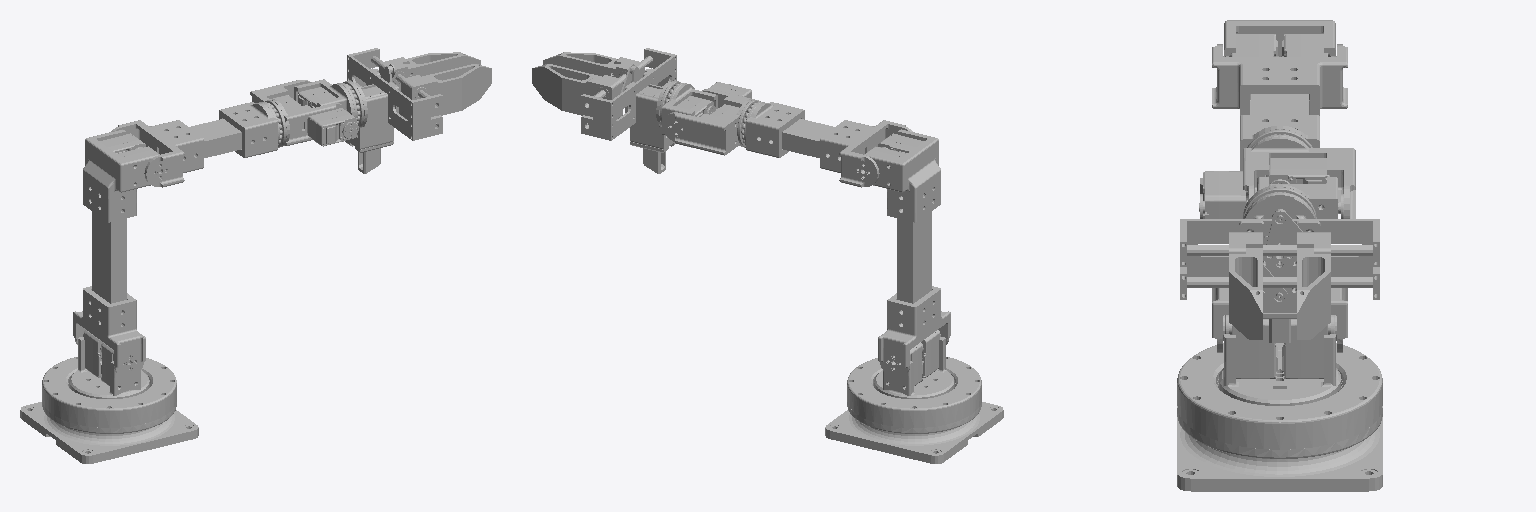
The robot description file, URDF, robot "Athena.SLDASM":
<?xml version="1.0" encoding="utf-8"?>
<!-- This URDF was automatically created by SolidWorks to URDF Exporter! Originally created by [author] ([email redacted]) 
     Commit Version: 1.6.0-1-g15f4949  Build Version: 1.6.7594.29634
     For more information, please see http://wiki.ros.org/sw_urdf_exporter -->
<robot
  name="Athena.SLDASM">
  <link
    name="link0">
    <inertial>
      <origin
        xyz="0.00084199 6.0516E-06 0.027312"
        rpy="0 0 0" />
      <mass
        value="1.07" />
      <inertia
        ixx="0.0017764"
        ixy="1.0653E-09"
        ixz="3.2188E-06"
        iyy="0.0017612"
        iyz="-3.7721E-10"
        izz="0.0034343" />
    </inertial>
    <visual>
      <origin
        xyz="0 0 0"
        rpy="0 0 0" />
      <geometry>
        <mesh
          filename="link0.STL" />
      </geometry>
      <material
        name="">
        <color
          rgba="0.75294 0.75294 0.75294 1" />
      </material>
    </visual>
    <collision>
      <origin
        xyz="0 0 0"
        rpy="0 0 0" />
      <geometry>
        <mesh
          filename="link0.STL" />
      </geometry>
    </collision>
  </link>
  <link
    name="link1">
    <inertial>
      <origin
        xyz="-6.61629444295814E-06 -1.91927132648169E-11 -0.0346908666411378"
        rpy="0 0 0" />
      <mass
        value="0.252237214685977" />
      <inertia
        ixx="0.000171346755451675"
        ixy="7.4094509508841E-10"
        ixz="5.66278592678419E-09"
        iyy="0.000157397378418575"
        iyz="4.22996912934034E-13"
        izz="0.000271224838861379" />
    </inertial>
    <visual>
      <origin
        xyz="0 0 0"
        rpy="0 0 0" />
      <geometry>
        <mesh
          filename="link1.STL" />
      </geometry>
      <material
        name="">
        <color
          rgba="0.752941176470588 0.752941176470588 0.752941176470588 1" />
      </material>
    </visual>
    <collision>
      <origin
        xyz="0 0 0"
        rpy="0 0 0" />
      <geometry>
        <mesh
          filename="link1.STL" />
      </geometry>
    </collision>
  </link>
  <joint
    name="joint1"
    type="revolute">
    <origin
      xyz="0 0 0.093"
      rpy="0 0 0" />
    <parent
      link="link0" />
    <child
      link="link1" />
    <axis
      xyz="0 0 -1" />
    <limit
      lower="-3.14"
      upper="3.14"
      effort="10"
      velocity="10" />
  </joint>
  <link
    name="link2">
    <inertial>
      <origin
        xyz="-0.139412624204607 0.0189971379530124 -1.67078320598128E-06"
        rpy="0 0 0" />
      <mass
        value="0.401527582473005" />
      <inertia
        ixx="0.000207716029858032"
        ixy="4.20481255217659E-05"
        ixz="-7.27030178177206E-08"
        iyy="0.000448970518181385"
        iyz="1.5330359269074E-08"
        izz="0.000355250815491493" />
    </inertial>
    <visual>
      <origin
        xyz="0 0 0"
        rpy="0 0 0" />
      <geometry>
        <mesh
          filename="link2.STL" />
      </geometry>
      <material
        name="">
        <color
          rgba="0.752941176470588 0.752941176470588 0.752941176470588 1" />
      </material>
    </visual>
    <collision>
      <origin
        xyz="0 0 0"
        rpy="0 0 0" />
      <geometry>
        <mesh
          filename="link2.STL" />
      </geometry>
    </collision>
  </link>
  <joint
    name="joint2"
    type="revolute">
    <origin
      xyz="0 0 0"
      rpy="1.5708 1.3974 -3.1416" />
    <parent
      link="link1" />
    <child
      link="link2" />
    <axis
      xyz="0 0 -1" />
    <limit
      lower="-3.14"
      upper="3.14"
      effort="10"
      velocity="10" />
  </joint>
  <link
    name="link3">
    <inertial>
      <origin
        xyz="3.71656731372738E-05 0.10004809585708 -1.47541066351612E-06"
        rpy="0 0 0" />
      <mass
        value="0.321758438792249" />
      <inertia
        ixx="0.000251321263865407"
        ixy="-1.13081500697256E-07"
        ixz="-5.10392396225503E-10"
        iyy="0.000176007934532394"
        iyz="9.63782301852364E-08"
        izz="0.000175558662776219" />
    </inertial>
    <visual>
      <origin
        xyz="0 0 0"
        rpy="0 0 0" />
      <geometry>
        <mesh
          filename="link3.STL" />
      </geometry>
      <material
        name="">
        <color
          rgba="0.752941176470588 0.752941176470588 0.752941176470588 1" />
      </material>
    </visual>
    <collision>
      <origin
        xyz="0 0 0"
        rpy="0 0 0" />
      <geometry>
        <mesh
          filename="link3.STL" />
      </geometry>
    </collision>
  </link>
  <joint
    name="joint3"
    type="revolute">
    <origin
      xyz="-0.2203 0 0"
      rpy="0 0 2.9682" />
    <parent
      link="link2" />
    <child
      link="link3" />
    <axis
      xyz="0 0 -1" />
    <limit
      lower="-3.14"
      upper="3.14"
      effort="10"
      velocity="10" />
  </joint>
  <link
    name="link4">
    <inertial>
      <origin
        xyz="1.1550676970451E-08 -0.00135269732140609 -0.0319158088029138"
        rpy="0 0 0" />
      <mass
        value="0.139042978114618" />
      <inertia
        ixx="8.36795313833226E-05"
        ixy="1.30211755304055E-09"
        ixz="1.43924770203339E-09"
        iyy="4.2816356420825E-05"
        iyz="-4.00657119158233E-06"
        izz="6.52007851384592E-05" />
    </inertial>
    <visual>
      <origin
        xyz="0 0 0"
        rpy="0 0 0" />
      <geometry>
        <mesh
          filename="link4.STL" />
      </geometry>
      <material
        name="">
        <color
          rgba="0.752941176470588 0.752941176470588 0.752941176470588 1" />
      </material>
    </visual>
    <collision>
      <origin
        xyz="0 0 0"
        rpy="0 0 0" />
      <geometry>
        <mesh
          filename="link4.STL" />
      </geometry>
    </collision>
  </link>
  <joint
    name="joint4"
    type="revolute">
    <origin
      xyz="0 0.228 0"
      rpy="-1.5708 3.1416 0" /><!-- changed p: 0->3.1416 -->
    <parent
      link="link3" />
    <child
      link="link4" />
    <axis
      xyz="0 0 -1" />
    <limit
      lower="-3.14"
      upper="3.14"
      effort="10"
      velocity="10" />
  </joint>
  <link
    name="link5">
    <inertial>
      <origin
        xyz="4.3224E-05 0.017037 0.0058889"
        rpy="0 0 0" />
      <mass
        value="0.1498" />
      <inertia
        ixx="4.591E-05"
        ixy="-3.7679E-10"
        ixz="1.0646E-09"
        iyy="6.5982E-05"
        iyz="5.8437E-07"
        izz="3.0968E-05" />
    </inertial>
    <visual>
      <origin
        xyz="0 0 0"
        rpy="0 0 0" />
      <geometry>
        <mesh
          filename="link5.STL" />
      </geometry>
      <material
        name="">
        <color
          rgba="0.75294 0.75294 0.75294 1" />
      </material>
    </visual>
    <collision>
      <origin
        xyz="0 0 0"
        rpy="0 0 0" />
      <geometry>
        <mesh
          filename="link5.STL" />
      </geometry>
    </collision>
  </link>
  <joint
    name="joint5"
    type="revolute">
    <origin
      xyz="0 0 0"
      rpy="1.5708 0 3.1416" />
    <parent
      link="link4" />
    <child
      link="link5" />
    <axis
      xyz="0 0 -1" />
    <limit
      lower="-3.14"
      upper="3.14"
      effort="10"
      velocity="10" />
  </joint>
  <link
    name="link6">
    <inertial>
      <origin
        xyz="-0.0072971 -2.4348E-05 0.092179"
        rpy="0 0 0" />
      <mass
        value="0.35726" />
      <inertia
        ixx="0.00015096"
        ixy="-1.5249E-07"
        ixz="3.1349E-06"
        iyy="0.0001375"
        iyz="3.6769E-10"
        izz="0.00013855" />
    </inertial>
    <visual>
      <origin
        xyz="0 0 0"
        rpy="0 0 0" />
      <geometry>
        <mesh
          filename="link6.STL" />
      </geometry>
      <material
        name="">
        <color
          rgba="0.75294 0.75294 0.75294 1" />
      </material>
    </visual>
    <collision>
      <origin
        xyz="0 0 0"
        rpy="0 0 0" />
      <geometry>
        <mesh
          filename="link6.STL" />
      </geometry>
    </collision>
  </link>
  <joint
    name="joint6"
    type="revolute">
    <origin
      xyz="0 0 0"
      rpy="1.5708 3.1416 3.1416" /><!-- changed p: 0->3.1416 -->
    <parent
      link="link5" />
    <child
      link="link6" />
    <axis
      xyz="0 0 -1" />
    <limit
      lower="-3.14"
      upper="3.14"
      effort="10"
      velocity="10" />
  </joint>
  <link
    name="link_eef">
    <inertial>
      <origin xyz="0.0 0.0 0.0" rpy="0.0 0.0 0.0"/>
      <mass value="0.0"/>
      <inertia ixx="0.0" ixy="0.0" ixz="0.0" iyy="0.0" iyz="0.0" izz="0.0"/>
    </inertial>
    <collision>
      <geometry>
        <cylinder radius="0.0" length="0.0"/>
      </geometry>
      <origin xyz="0.0 0.0 0.0" rpy="0.0 0.0 0.0"/>
    </collision>
  </link>
  <joint
    name="joint_eef"
    type="fixed">
    <!-- eef on ball joint -->
    <!-- <origin
      xyz="0.0 0.0 0.0"
      rpy="0 -1.5708 0" /> -->
    <!-- eef on gripper center -->
    <!-- <origin
      xyz="0.080 0.0 0.195"
      rpy="0 -1.5708 0" /> -->
    <!-- eef on gripper center z-axis + 0.060m (consider teleop tag)  -->
    <origin
      xyz="-0.060 0.0 0.120"
      rpy="3.1416 -1.5708 0" />
    <parent
      link="link6" />
    <child
      link="link_eef" />
  </joint>
</robot>

--- Render facts (derived) ---
3 views of the same robot in one strip: view 1: azimuth 30°, elevation 25°; view 2: azimuth 150°, elevation 25°; view 3: azimuth 270°, elevation 25° (orthographic).
Robot: Athena.SLDASM — 8 links, 7 joints (6 revolute, 1 fixed); root link link0; default pose: all joints at 0.
Links seen in each view (by area): view 1: link2, link0, link6, link3, link4, link1, link5; view 2: link2, link0, link6, link3, link4, link1, link5; view 3: link0, link6, link3, link1, link4, link2, link5.
Link boxes in pixels (left/top/right/bottom): link2: left=73, top=129, right=160, bottom=378; link0: left=20, top=357, right=198, bottom=463; link6: left=345, top=48, right=491, bottom=173; link3: left=111, top=100, right=286, bottom=187; link4: left=250, top=80, right=358, bottom=146; link1: left=69, top=330, right=149, bottom=398; link5: left=294, top=79, right=363, bottom=127; link2: left=863, top=129, right=950, bottom=378; link0: left=825, top=357, right=1003, bottom=463; link6: left=532, top=48, right=676, bottom=173; link3: left=737, top=100, right=912, bottom=187; link4: left=663, top=82, right=760, bottom=155; link1: left=874, top=330, right=954, bottom=398; link5: left=660, top=81, right=717, bottom=135; link0: left=1177, top=343, right=1382, bottom=491; link6: left=1180, top=194, right=1379, bottom=342; link3: left=1212, top=44, right=1347, bottom=170; link1: left=1218, top=315, right=1341, bottom=405; link4: left=1199, top=136, right=1355, bottom=218; link2: left=1212, top=20, right=1347, bottom=352; link5: left=1243, top=177, right=1338, bottom=218.
Size in the robot's own frame: 0.5375 by 0.145 by 0.346 metres.
7 mesh visuals loaded from 7 distinct referenced files (7 binary STL).
